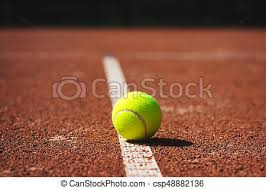tennis_ball: (111, 91, 162, 143)
